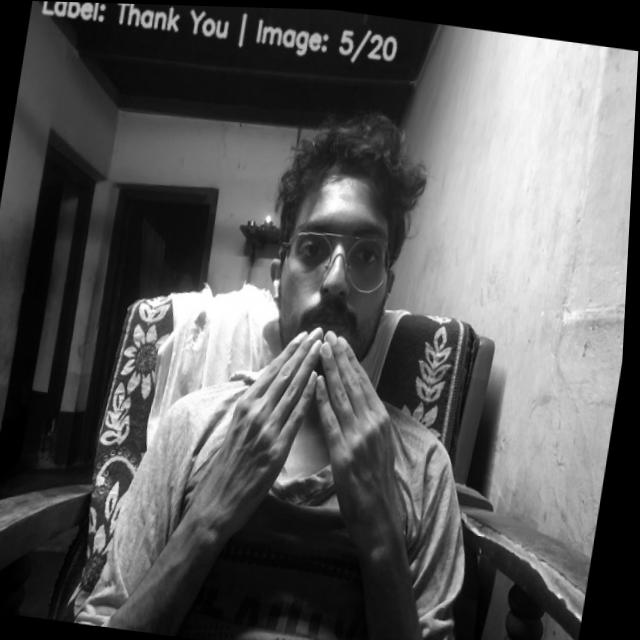Thank You: (178, 303, 448, 557)
